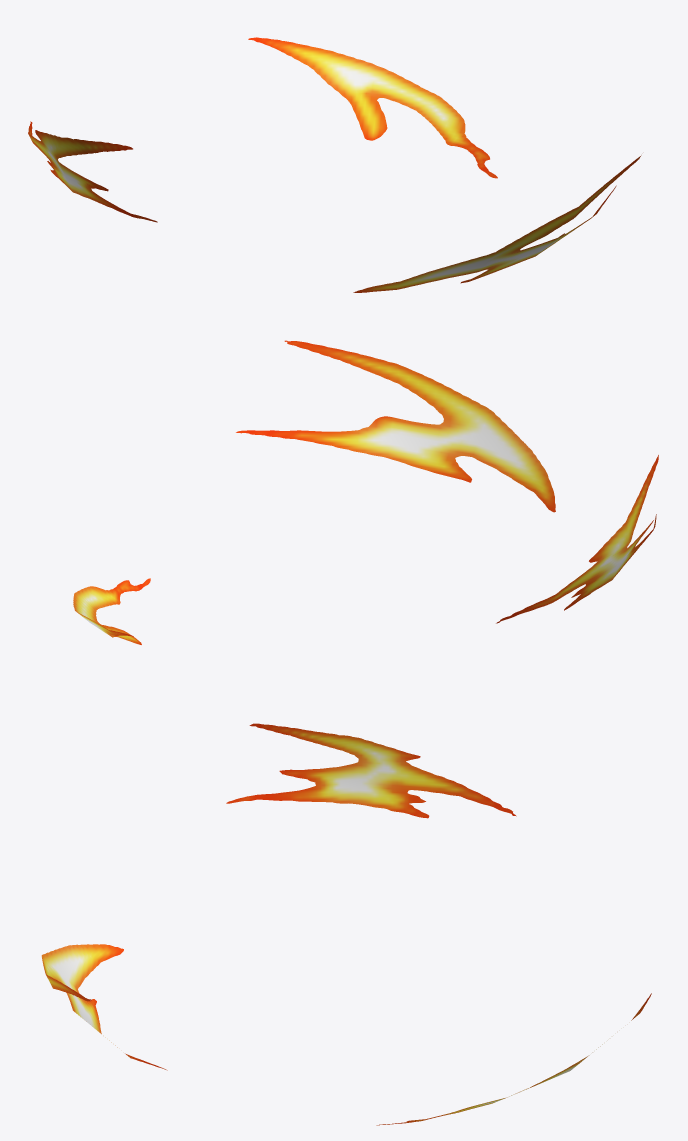
File: Flame_Spin02.FBX
The picture shows the model from 3 angles, top to bottom: view 1: azimuth 30°, elevation 25°; view 2: azimuth 150°, elevation 25°; view 3: azimuth 270°, elevation 25°; orthographic projection. The views are drawn at different scales.
Parts seen in each view (by area): view 1: Sphere005; view 2: Sphere005; view 3: Sphere005.
Part boxes in pixels (box(x1,y1,x2,y2)): Sphere005: box(28, 37, 641, 292); Sphere005: box(73, 340, 658, 644); Sphere005: box(41, 723, 651, 1125).
Bounding box in the file's own units: 94.85 × 34.02 × 101.
